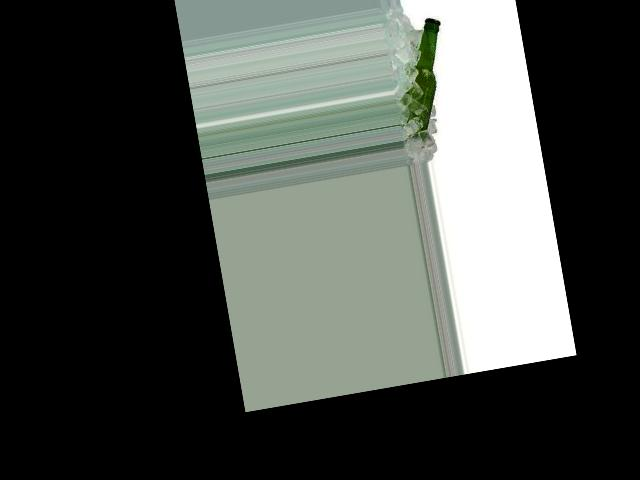beer: (397, 15, 458, 139)
